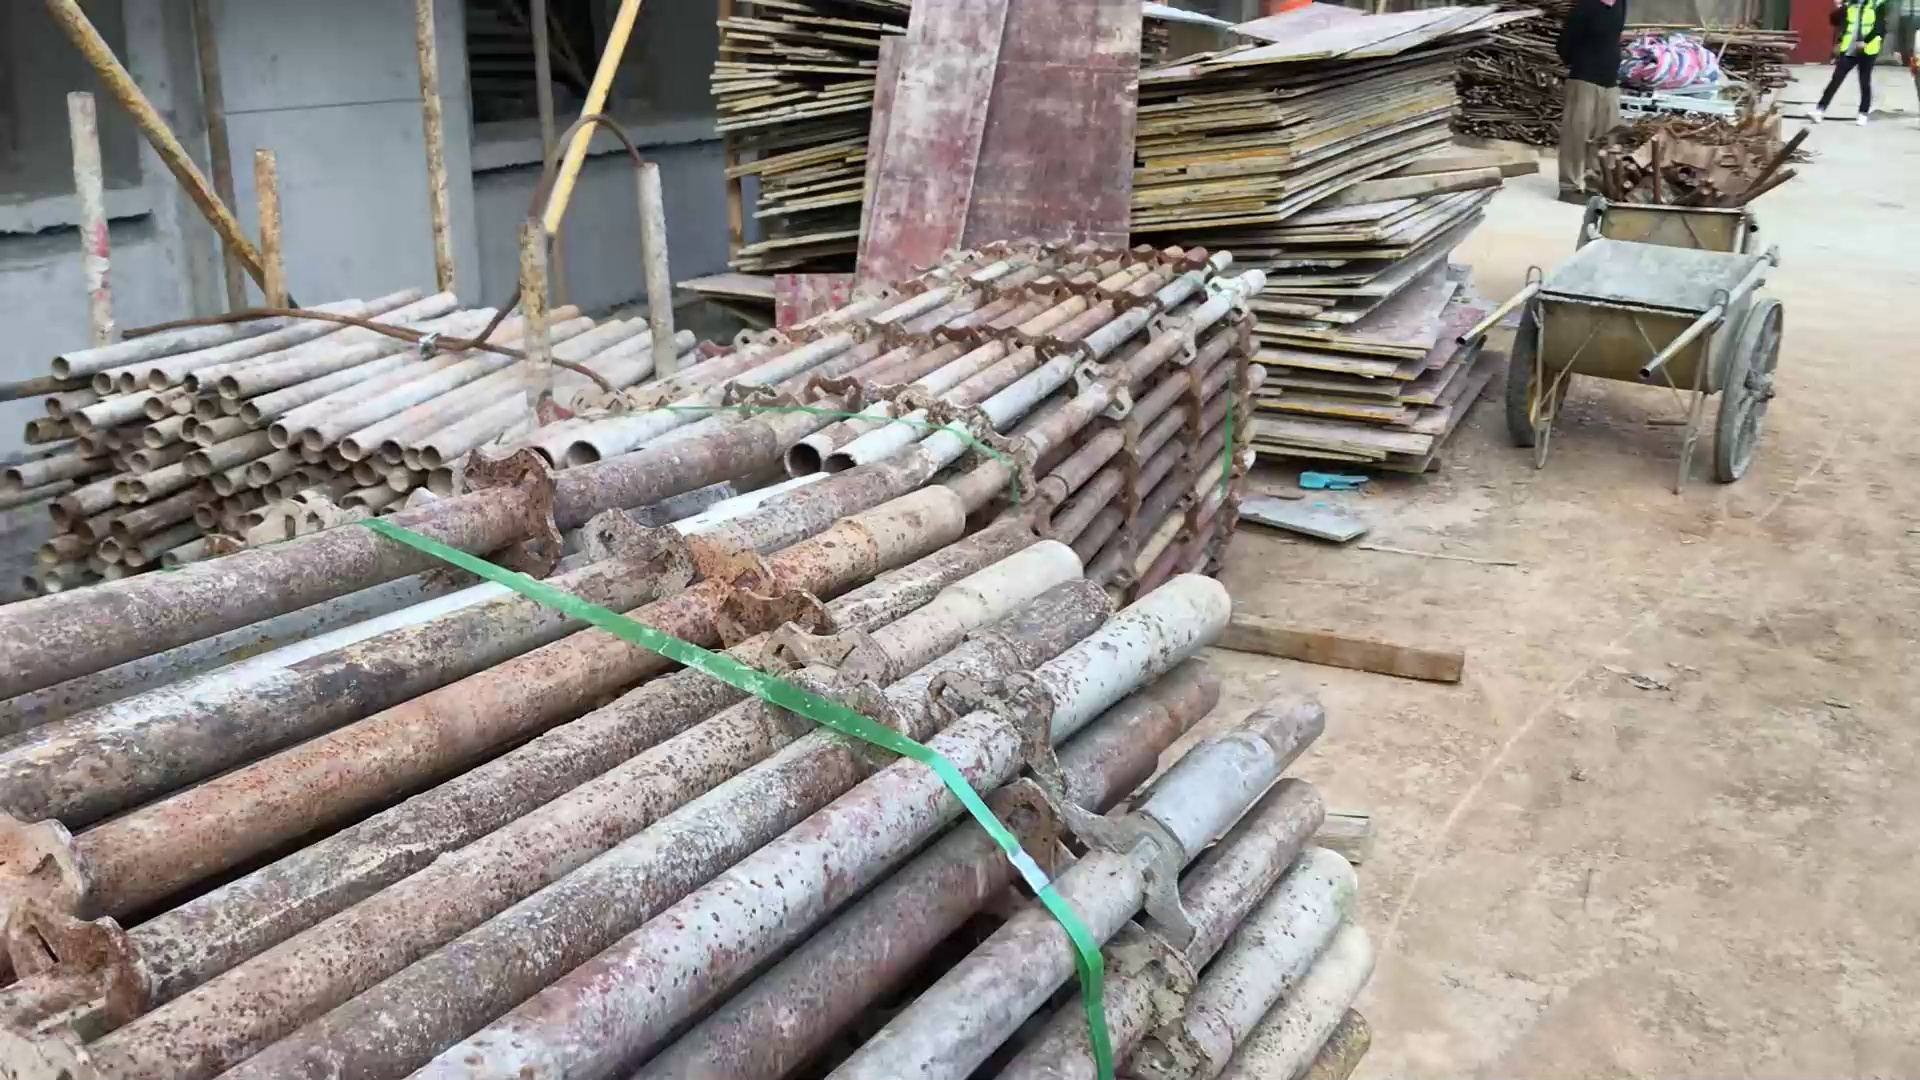board: (1124, 1, 1538, 495)
handcart: (1462, 224, 1812, 488)
person: (1552, 1, 1637, 216), (1798, 1, 1896, 129)
scaffold: (1, 417, 1393, 1076), (7, 247, 741, 619), (703, 221, 1288, 612)
vest: (1828, 1, 1885, 60)
